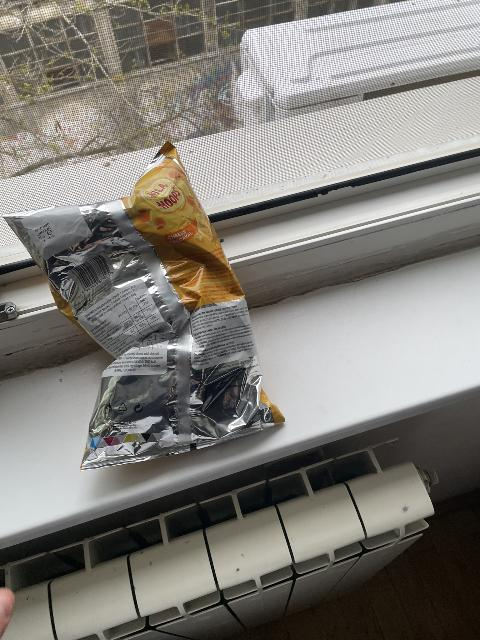Chio Hula Hoops Cheese 70g: (0, 140, 285, 471)
